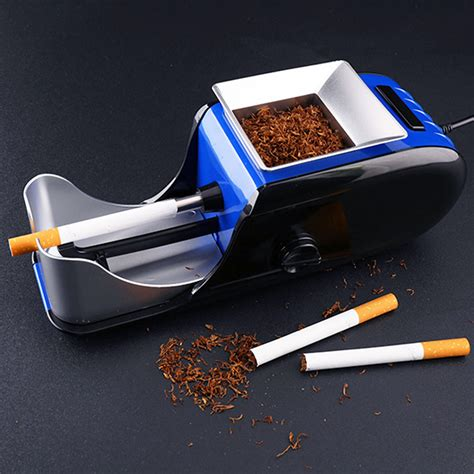cigarette: (246, 293, 398, 367), (6, 196, 181, 258), (300, 337, 470, 374)
